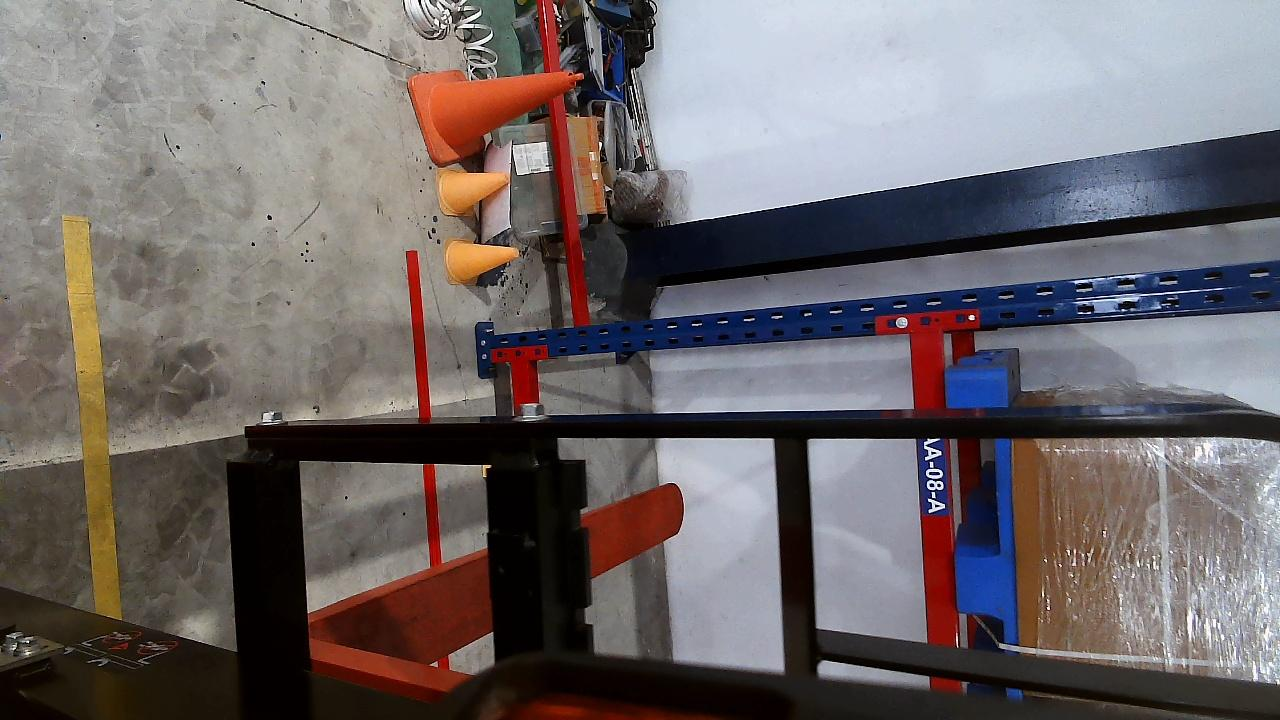h_rack: (910, 332, 955, 642)
red_line: (404, 249, 444, 563)
small_pallet: (947, 356, 1012, 647)
yellow_line: (58, 214, 120, 617)
